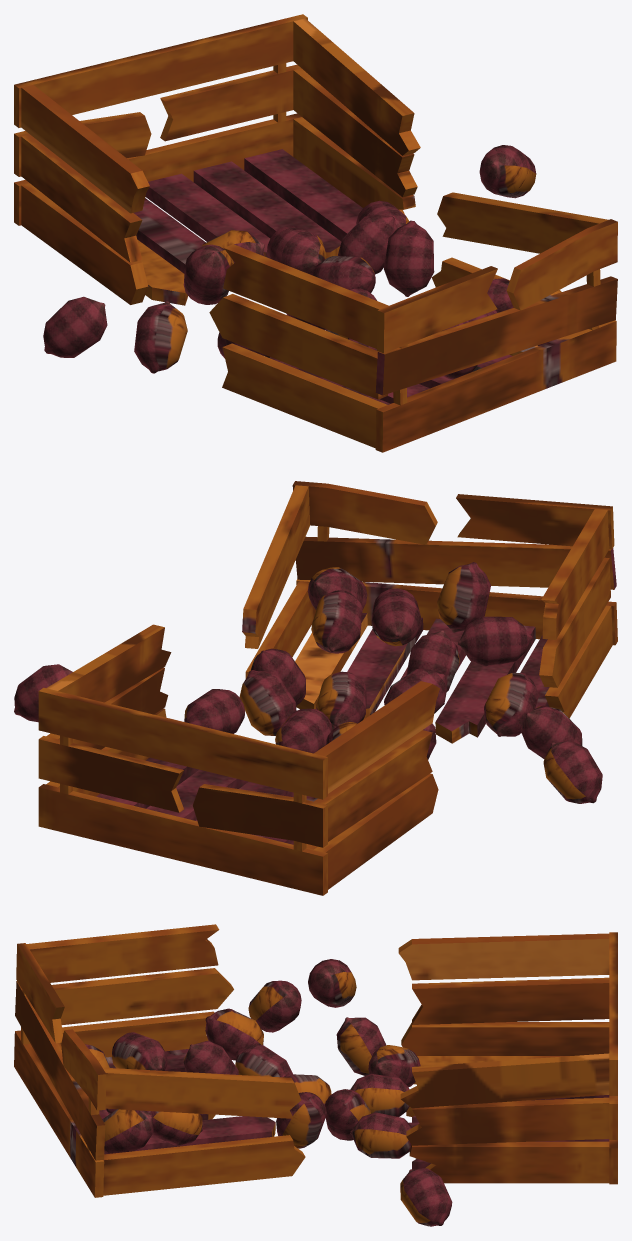
Rendered from broken fruit crate_1.fbx.
3 renders of one model, top to bottom at view 1: azimuth 30°, elevation 25°; view 2: azimuth 150°, elevation 25°; view 3: azimuth 270°, elevation 25°, orthographic. The views are drawn at different scales.
Parts seen in each view (by area): view 1: Cube.043, Cube.042, Plane.1997, Plane.2007, Plane.2000, Plane.2001, Plane.2003, Plane.2004, Plane.1994, Plane.2010, Plane.2006, Plane.1995 (+1 smaller); view 2: Cube.043, Cube.042, Plane.1996, Plane.1997, Plane.1999, Plane.2004, Plane.2011, Plane.2009, Plane.2002, Plane.2010, Plane.2000, Plane.1995 (+6 smaller); view 3: Cube.043, Cube.042, Plane.2001, Plane.1995, Plane.2000, Plane.2009, Plane.2003, Plane.2005, Plane.1997, Plane.2007, Plane.1994, Plane.1996 (+6 smaller).
Part boxes in pixels (x1,y1,x2,y2): Cube.043: [14, 14, 420, 305]; Cube.042: [209, 192, 617, 452]; Plane.1997: [43, 296, 107, 357]; Plane.2007: [384, 220, 434, 296]; Plane.2000: [134, 301, 187, 373]; Plane.2001: [479, 145, 536, 198]; Plane.2003: [183, 244, 233, 304]; Plane.2004: [338, 214, 397, 274]; Plane.1994: [267, 225, 326, 274]; Plane.2010: [312, 256, 375, 292]; Plane.2006: [202, 230, 264, 262]; Plane.1995: [356, 200, 409, 228]; Cube.043: [38, 624, 439, 895]; Cube.042: [242, 481, 617, 743]; Plane.1996: [458, 616, 532, 666]; Plane.1997: [543, 740, 602, 803]; Plane.1999: [437, 562, 490, 632]; Plane.2004: [239, 670, 296, 735]; Plane.2011: [311, 590, 362, 653]; Plane.2009: [484, 672, 538, 736]; Plane.2002: [371, 588, 421, 646]; Plane.2010: [316, 671, 366, 729]; Plane.2000: [521, 705, 582, 759]; Plane.1995: [184, 689, 244, 733]; Cube.043: [398, 932, 617, 1184]; Cube.042: [14, 924, 305, 1197]; Plane.2001: [400, 1168, 452, 1226]; Plane.1995: [350, 1112, 412, 1158]; Plane.2000: [248, 980, 301, 1032]; Plane.2009: [205, 1008, 263, 1060]; Plane.2003: [336, 1017, 385, 1075]; Plane.2005: [102, 1109, 153, 1153]; Plane.1997: [308, 959, 356, 1007]; Plane.2007: [276, 1092, 326, 1148]; Plane.1994: [350, 1073, 409, 1116]; Plane.1996: [112, 1032, 167, 1070].
Size of the model in its own units: 50.05 by 13.31 by 53.78.
